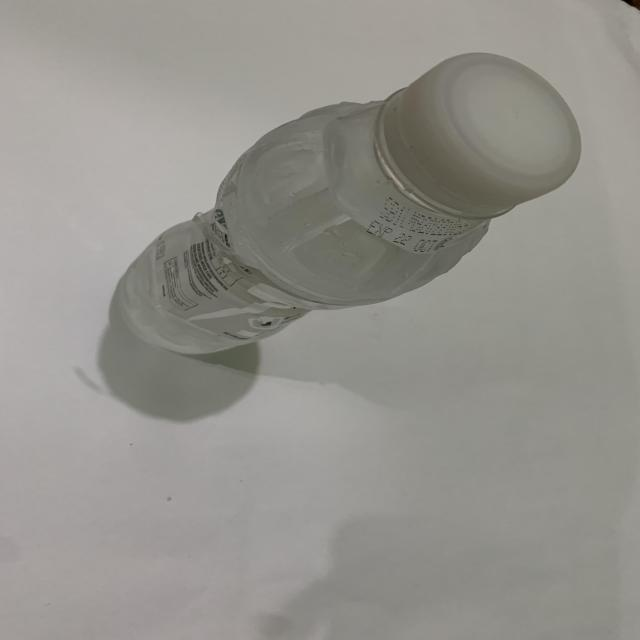bottle: (98, 48, 600, 360)
